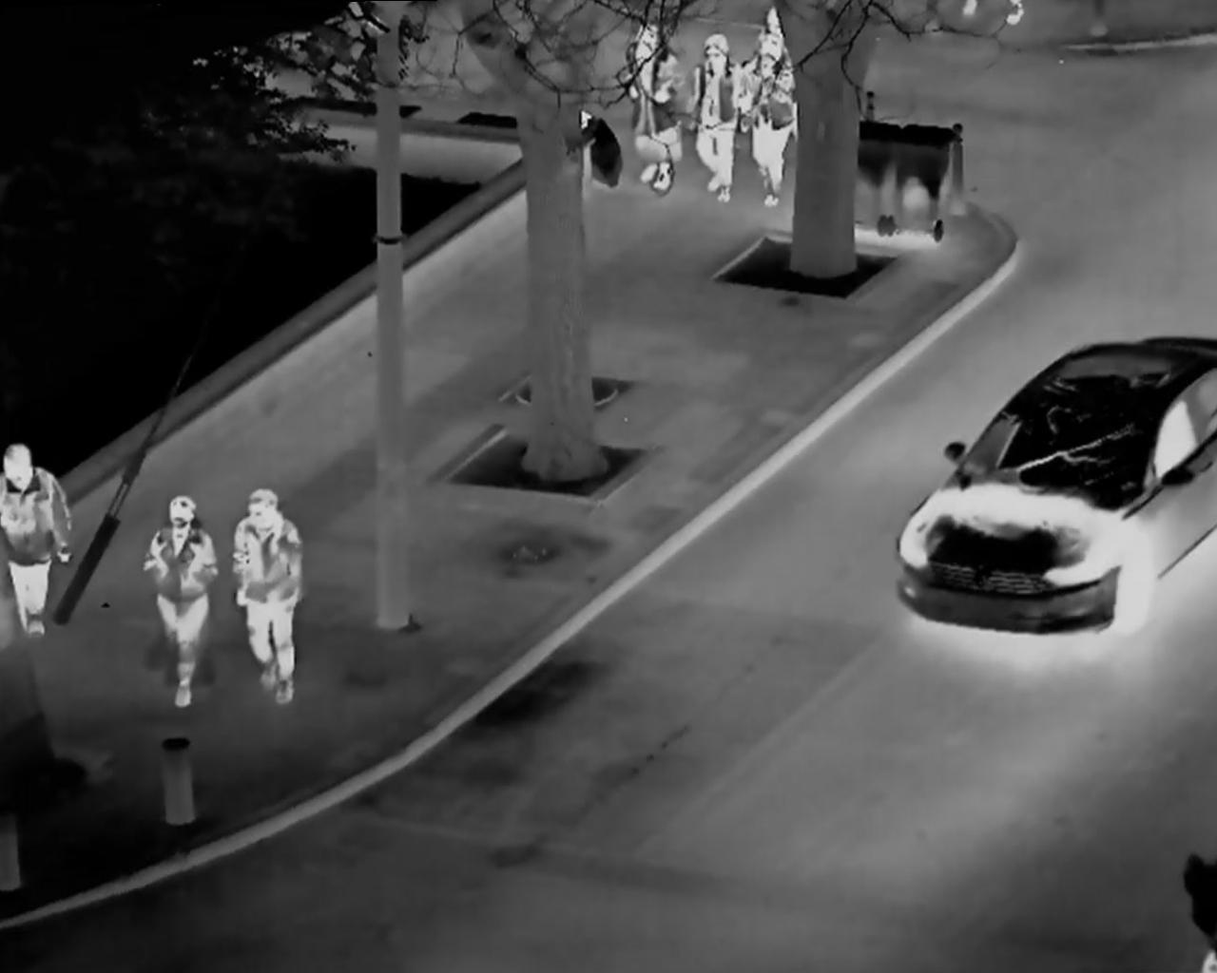person: (128, 486, 224, 723), (217, 479, 319, 702), (611, 12, 688, 202), (681, 14, 740, 213), (739, 19, 793, 206)
